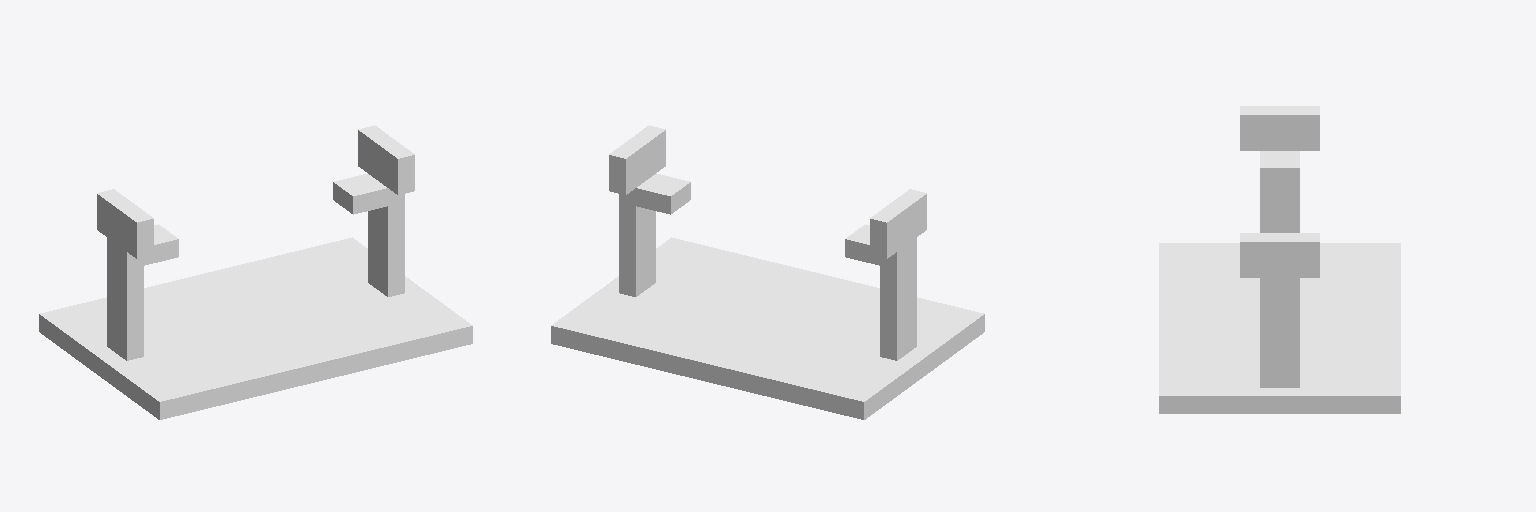
The model's file is Sport.obj.
3 renders of one model, left to right at view 1: azimuth 30°, elevation 25°; view 2: azimuth 150°, elevation 25°; view 3: azimuth 270°, elevation 25°, orthographic.
Size of the model in its own units: 18 by 9 by 12.